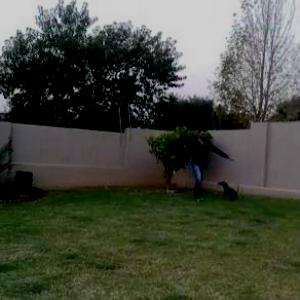land: (152, 115, 223, 211)
